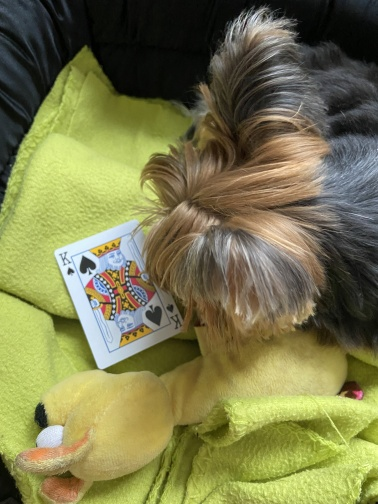king: (52, 218, 188, 371)
